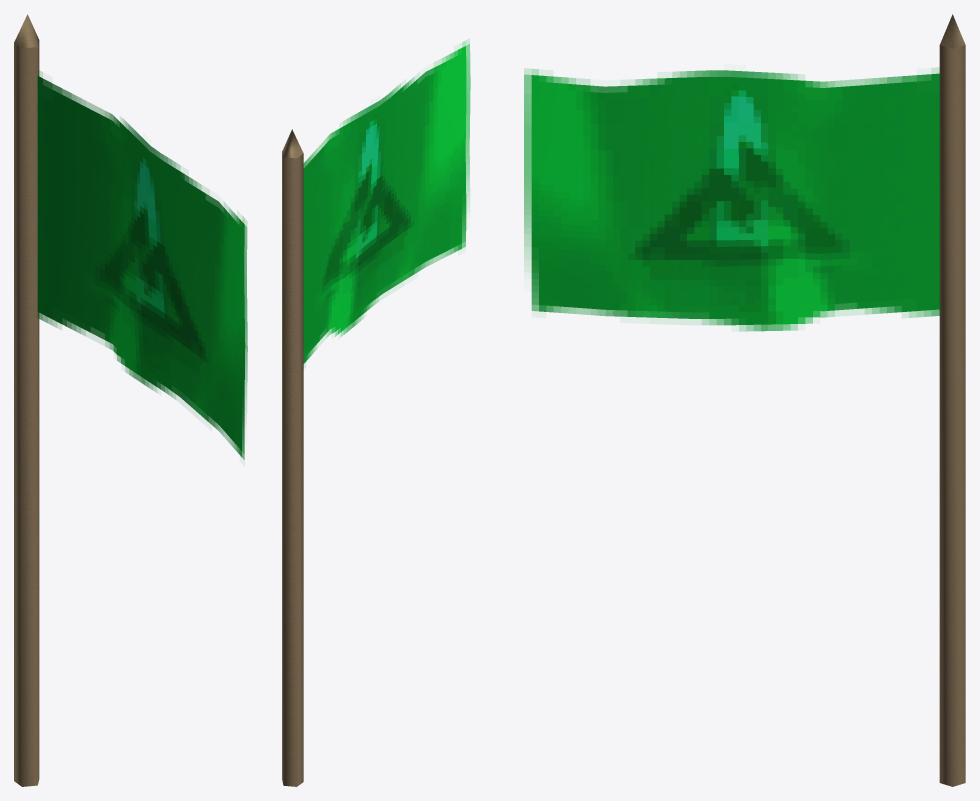
Rendered from Flaggrn.glb.
3 views of the same model, side by side, from view 1: azimuth 30°, elevation 25°; view 2: azimuth 150°, elevation 25°; view 3: azimuth 270°, elevation 25° (orthographic). The views are drawn at different scales.
Visible parts, largest first — view 1: _Flaggrn; view 2: _Flaggrn; view 3: _Flaggrn.
Boxes of the visible parts, left/top/right/bottom form: _Flaggrn: left=14, top=14, right=247, bottom=786; _Flaggrn: left=282, top=39, right=470, bottom=786; _Flaggrn: left=524, top=14, right=965, bottom=786.
Size of the model in its own units: 0.0449 by 0.9618 by 0.5206.
Materials: 2 (2 with a texture image).
